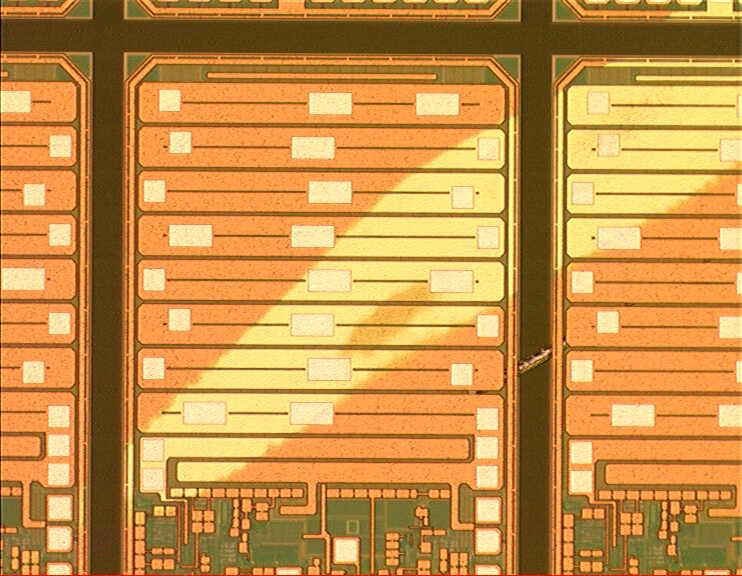BLOCK ETCH: (65, 1, 742, 543)
